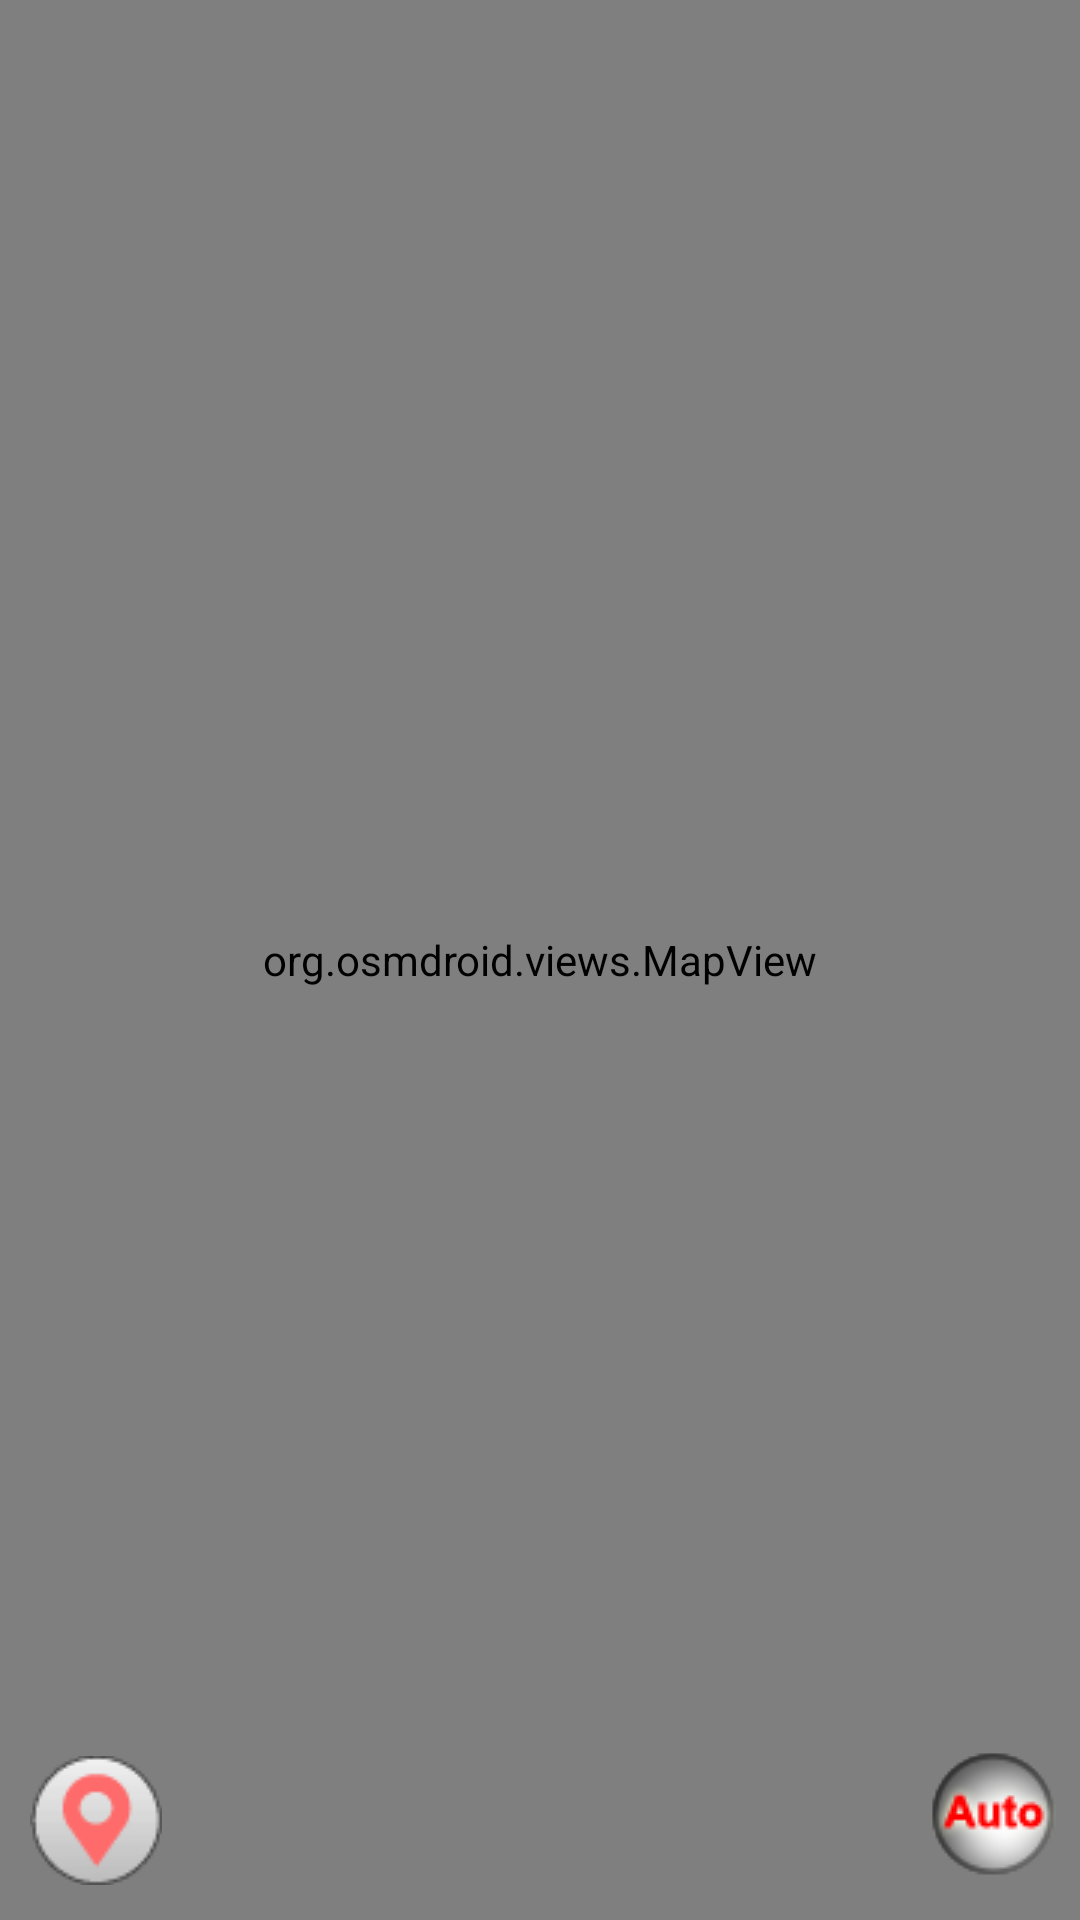

Locate icon controls on the screen. Image size 1080*1920, boxes as [x1,y1,x2,y2].
center: [30,1756,162,1885]
